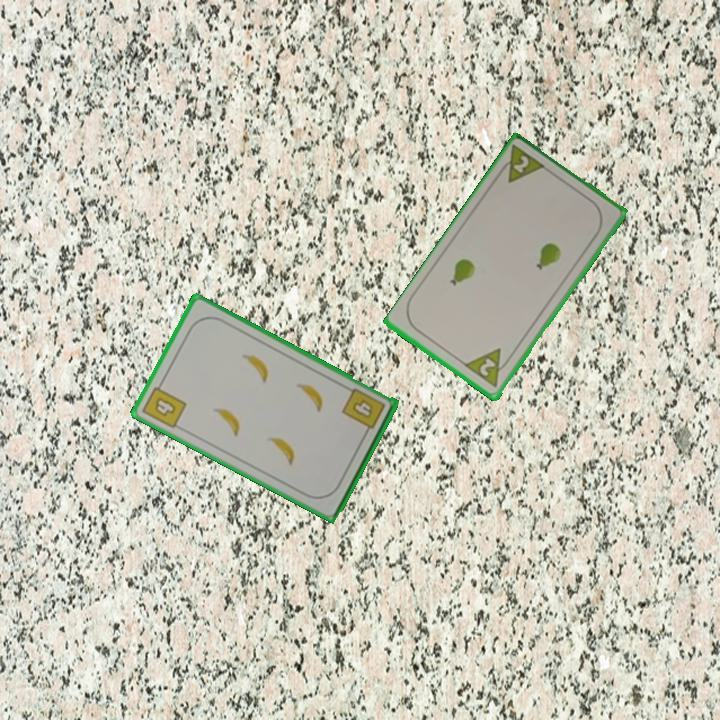2p: (493, 142, 549, 186), (462, 345, 515, 391)
4b: (138, 377, 189, 431), (338, 385, 388, 438)
